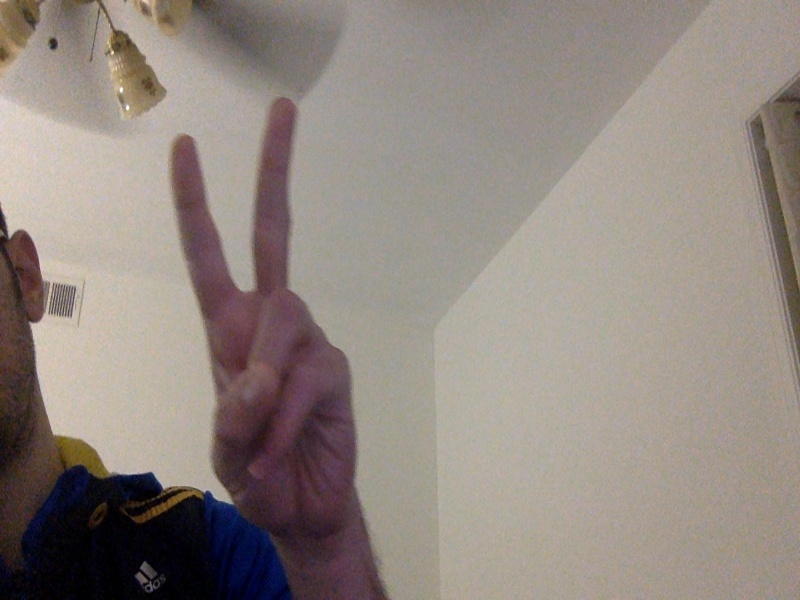2-hand: (171, 97, 359, 534)
